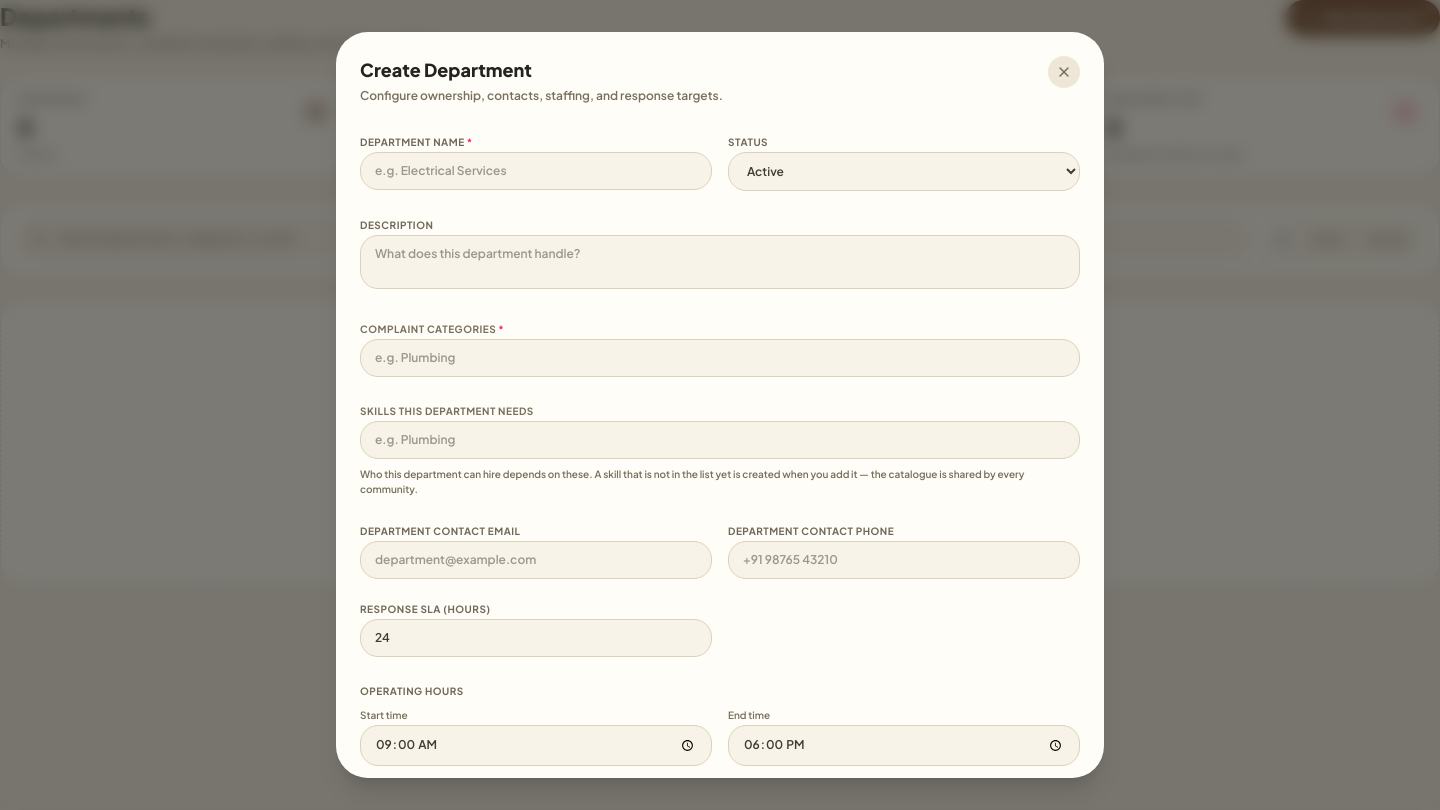
Test case: category validation timing › shows the error once the field was touched and emptied again
Expected: the heading "Create Department" is shown, [360, 58, 532, 81]
In the dropdown labelled "Complaint categories*": x=720, y=358 [360, 339, 1080, 377], type "Plumbing"
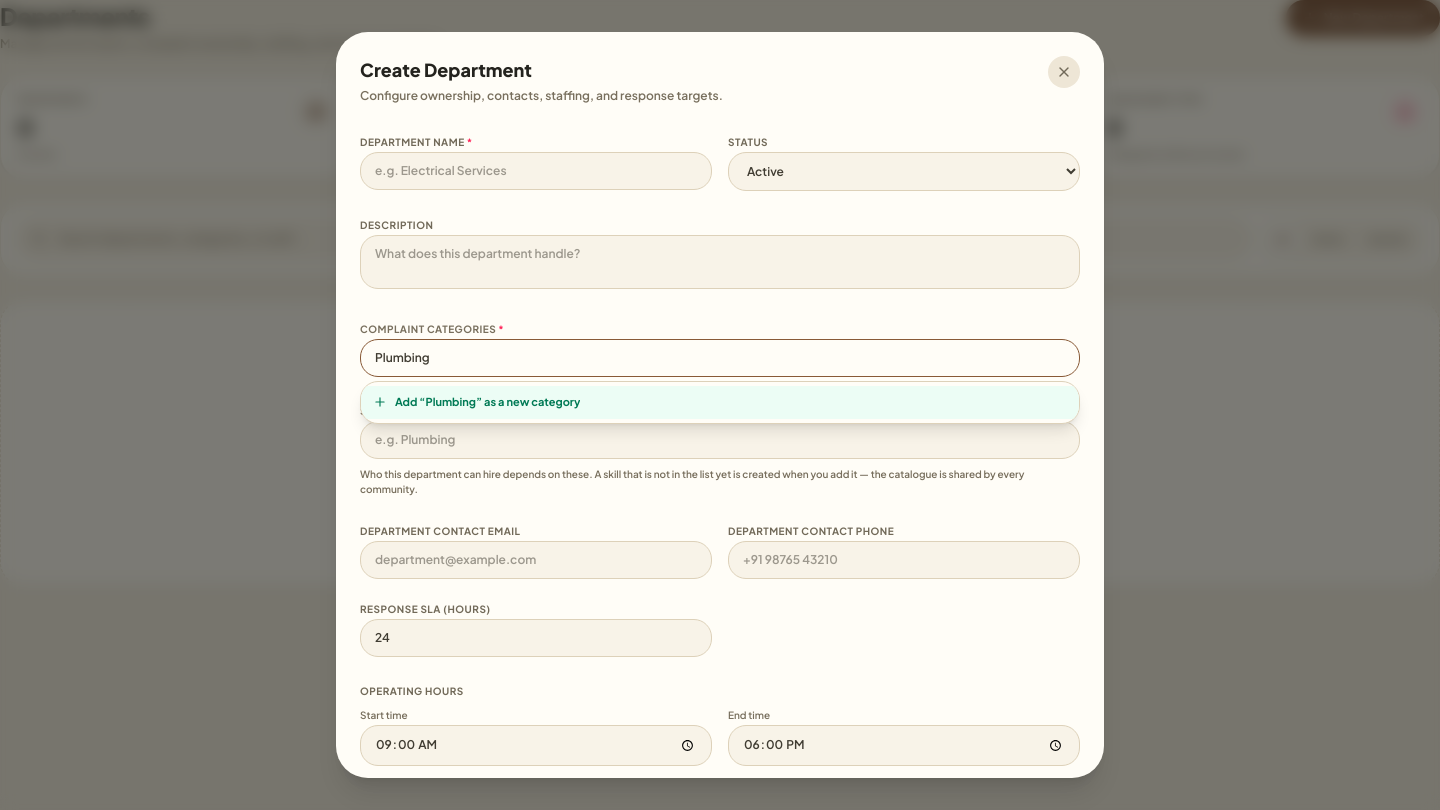
Click the button "Add “Plumbing” as a new category": x=488, y=402 [361, 386, 1079, 418]
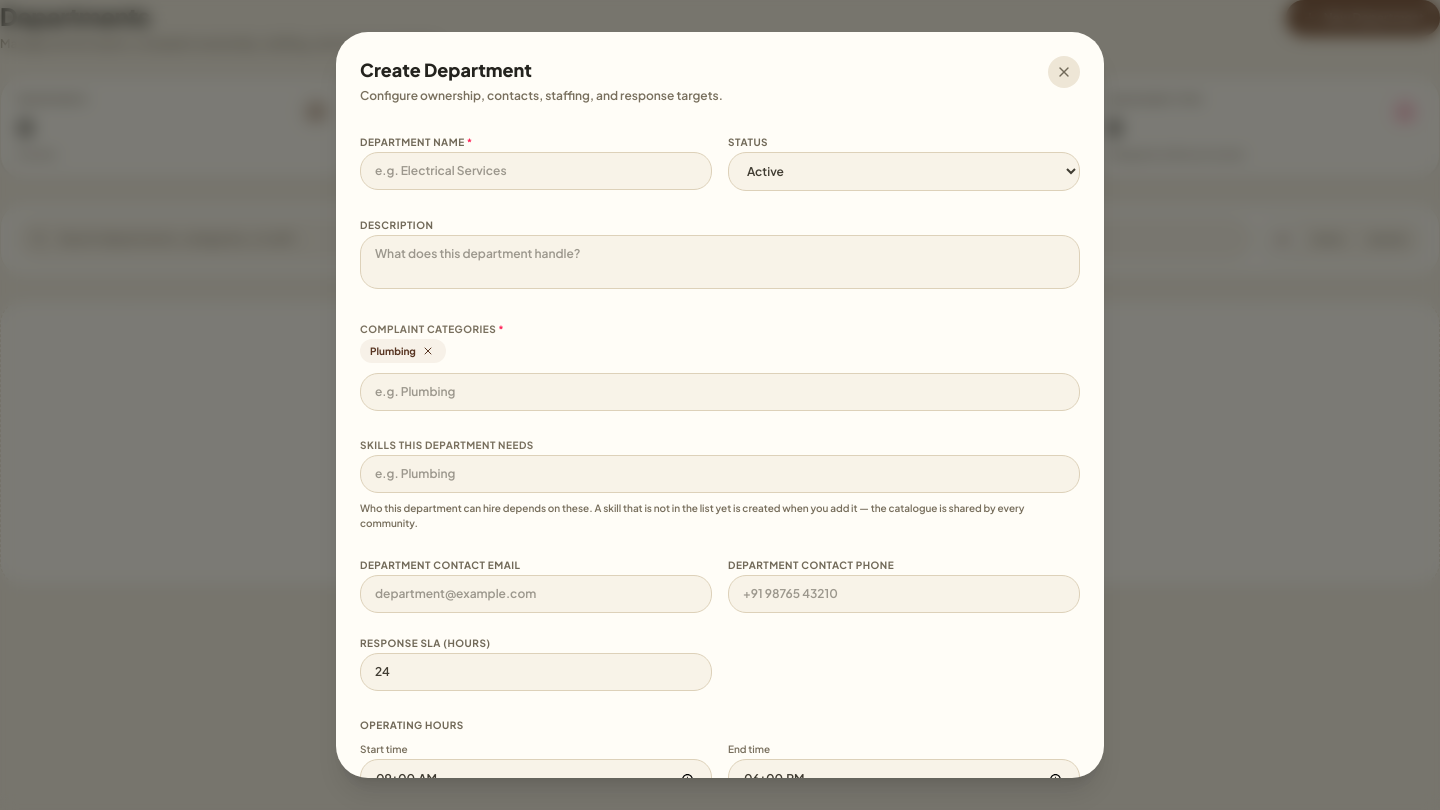
Expected: the text "Select at least one complaint category." is not shown
Click the button named "Remove Plumbing": x=428, y=351 [420, 343, 436, 359]
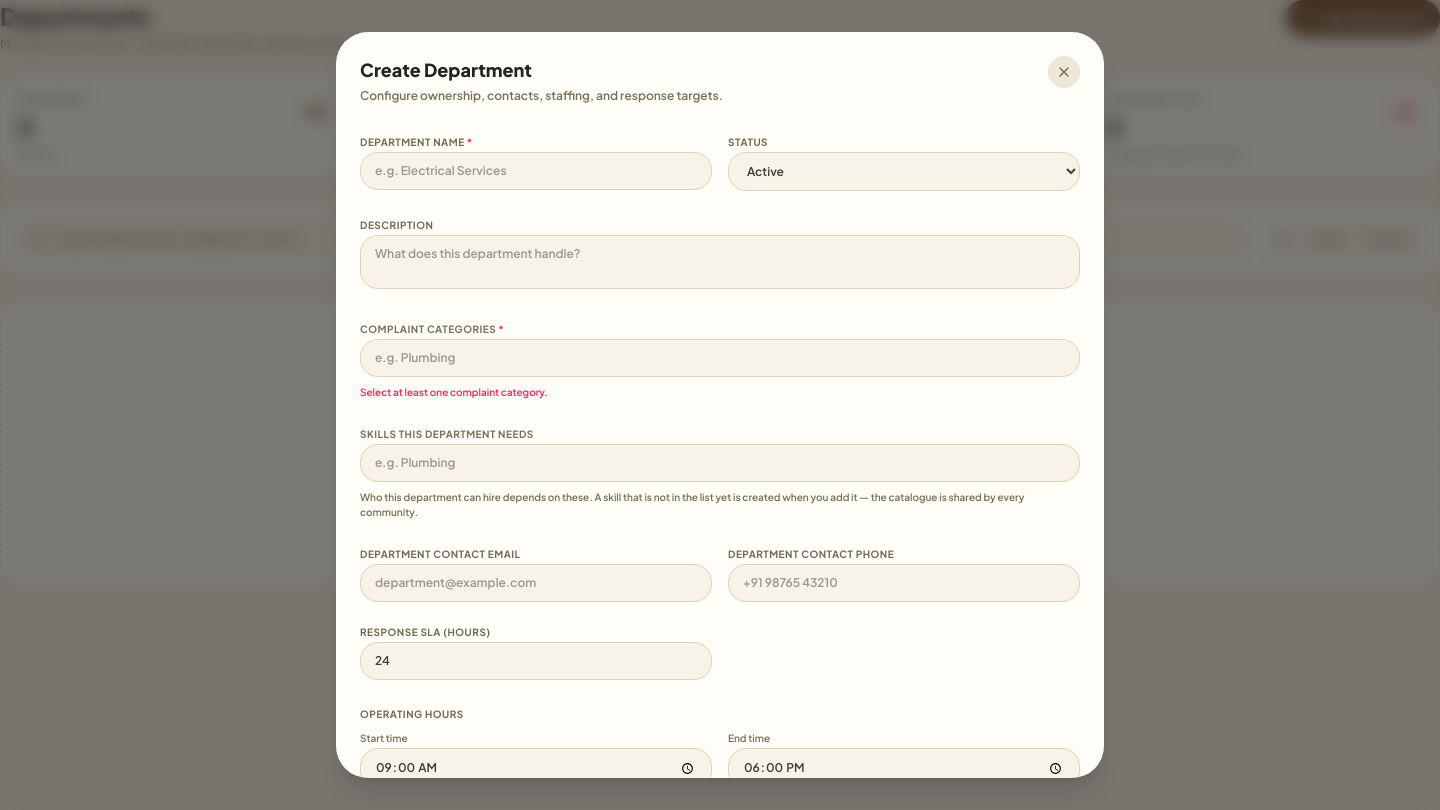
Result: the text "Select at least one complaint category." is shown at [360, 386, 548, 398]
